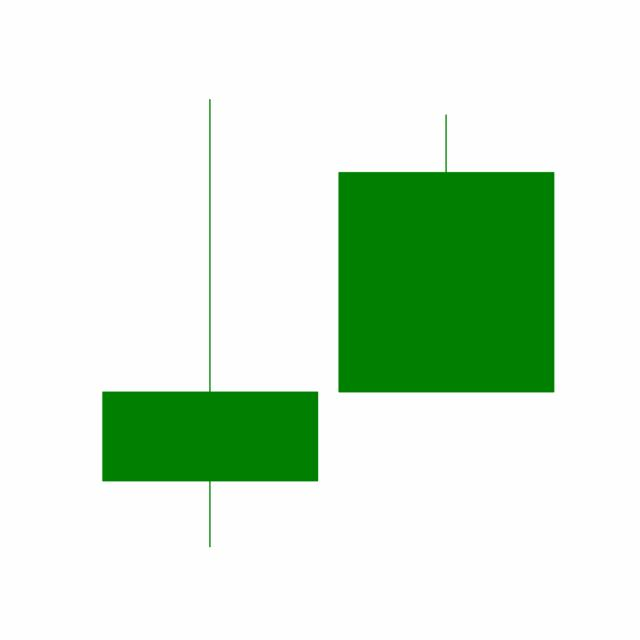Marubozu: (327, 111, 565, 395)
